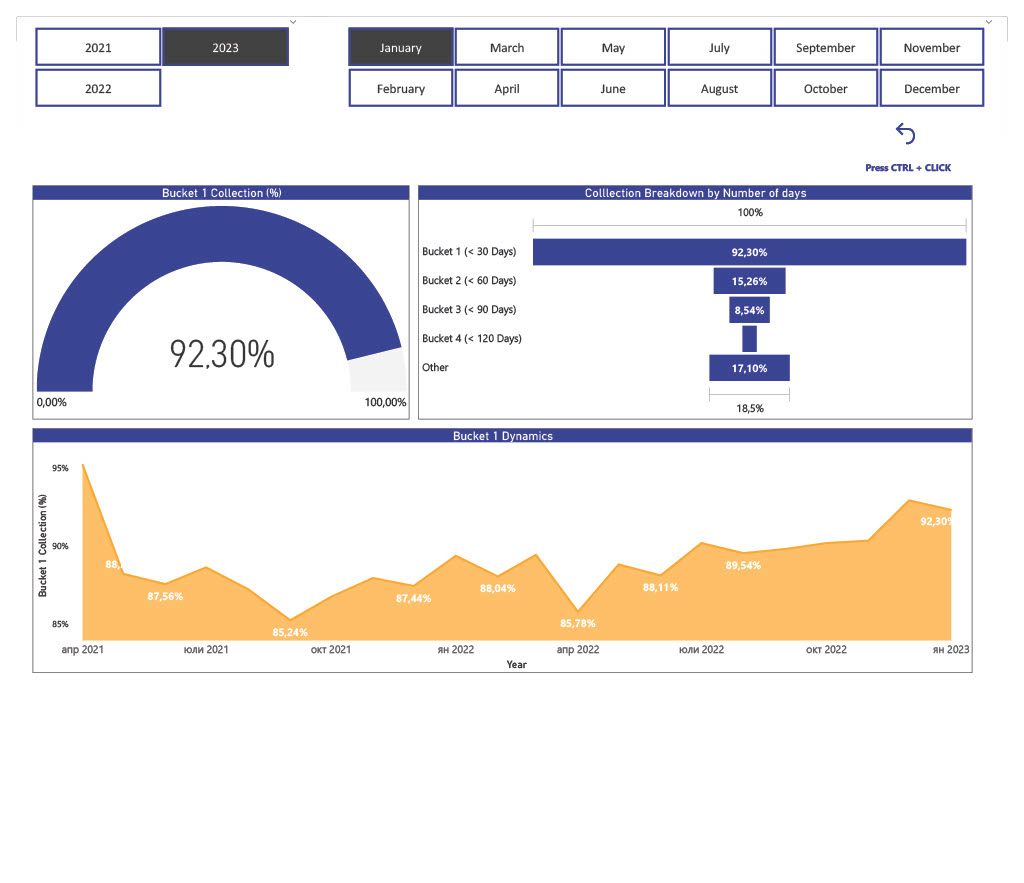

The dashboard page shown, as its layout file describes it:
{"tool":"powerbi","page":{"name":"Collected MDP by Buckets","canvas":[1400,1200],"ordinal":7},"visuals":[{"type":"group","id":"g1","title":"Group 1","box":[0,0,1392.4,133.6],"z":0},{"type":"slicer","fields":{"Values":["CalendarTable.Date.Variation.Date Hierarchy.Year"]},"box":[0,0,408.4,133.6],"z":0,"group":"g1"},{"type":"slicer","fields":{"Values":["CalendarTable.Date.Variation.Date Hierarchy.Month"]},"box":[443.1,0,949.3,133.6],"z":1000,"group":"g1"},{"type":"actionButton","box":[1236,144.5,53.2,40.2],"z":1000},{"type":"textbox","box":[1191.5,197.7,143.4,40.2],"z":2000},{"type":"gauge","title":"Bucket 1  Collection (%)","fields":{"Y":["Sum(Collection by Bucket 1.Bucket1)"]},"box":[21.6,238,533.2,330.8],"z":3000},{"type":"areaChart","title":"Bucket 1 Dynamics (%)","fields":{"Category":["CalendarTable.Date.Variation.Date Hierarchy.Year","CalendarTable.Date.Variation.Date Hierarchy.Month"],"Y":["Sum(Collection by Bucket 1.Bucket1)"]},"box":[21.7,582.2,1329.4,346.5],"z":4000},{"type":"funnel","title":"Credit Collection Based on Number of Days (%)","fields":{"Y":["Sum(CollectedAllBuckets.< 30 Days)","Sum(CollectedAllBuckets.< 60 Days)","Sum(CollectedAllBuckets.< 90 Days)","Sum(CollectedAllBuckets.< 120 Days)","Sum(CollectedAllBuckets.Other)"]},"box":[567,237.9,784.2,331.3],"z":5000}]}

Visuals, with their boxes in screenshot pixels (x1, y1, x2, y2), scaled from the page's 1400x1200 canvas onto the 1024x883 screenshot:
"Group 1" group: [x1=0, y1=0, x2=1018, y2=98]
slicer - CalendarTable.Date.Variation.Date Hierarchy.Year: [x1=0, y1=0, x2=299, y2=98]
slicer - CalendarTable.Date.Variation.Date Hierarchy.Month: [x1=324, y1=0, x2=1018, y2=98]
actionButton: [x1=904, y1=106, x2=943, y2=136]
textbox: [x1=871, y1=145, x2=976, y2=175]
"Bucket 1  Collection (%)" gauge: [x1=16, y1=175, x2=406, y2=419]
"Bucket 1 Dynamics (%)" areaChart: [x1=16, y1=428, x2=988, y2=683]
"Credit Collection Based on Number of Days (%)" funnel: [x1=415, y1=175, x2=988, y2=419]
